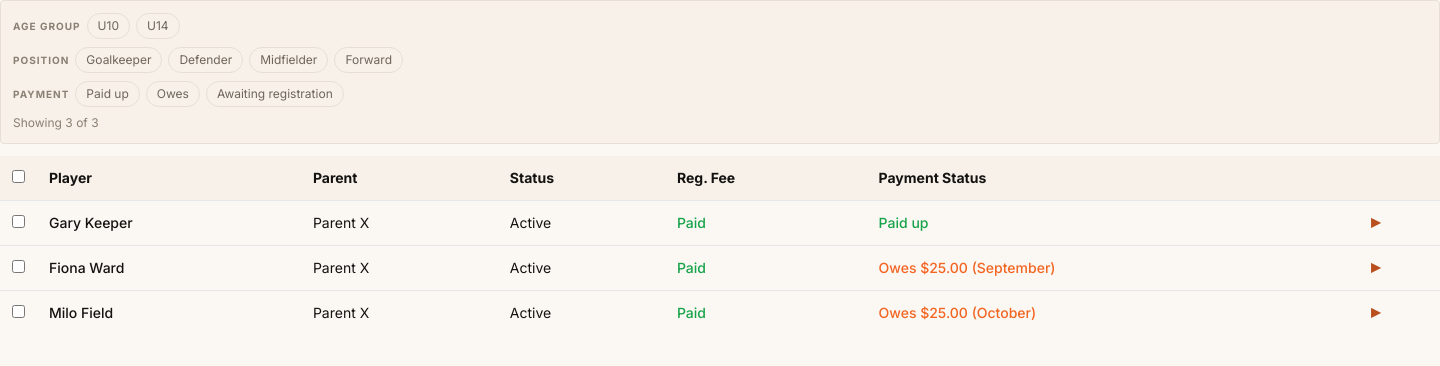
Test: PlayersTable bulk selection › select-all picks every filtered row
Click the button "U10" at (108, 26), box [87, 13, 130, 39]
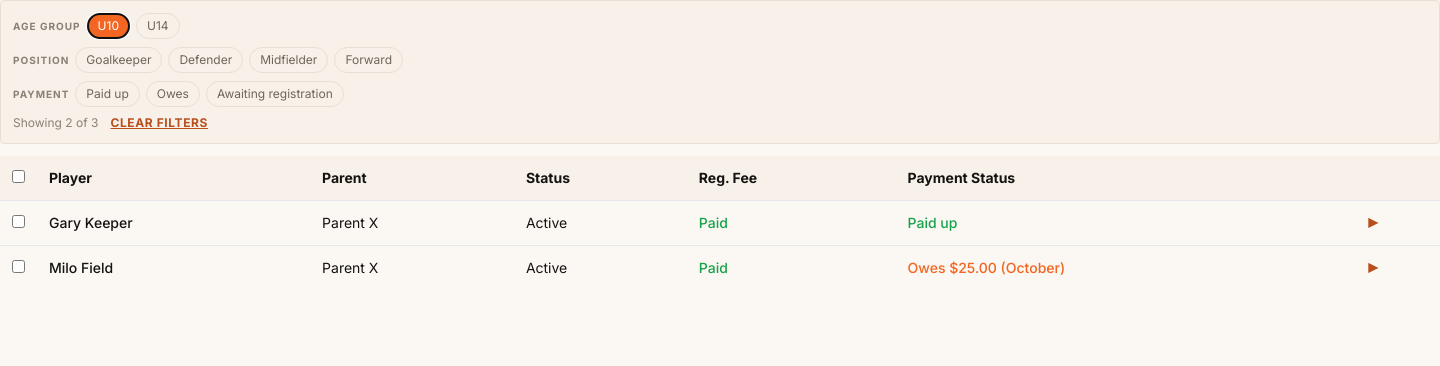
Click the checkbox named "Select all" at (18, 176), box [12, 170, 25, 183]
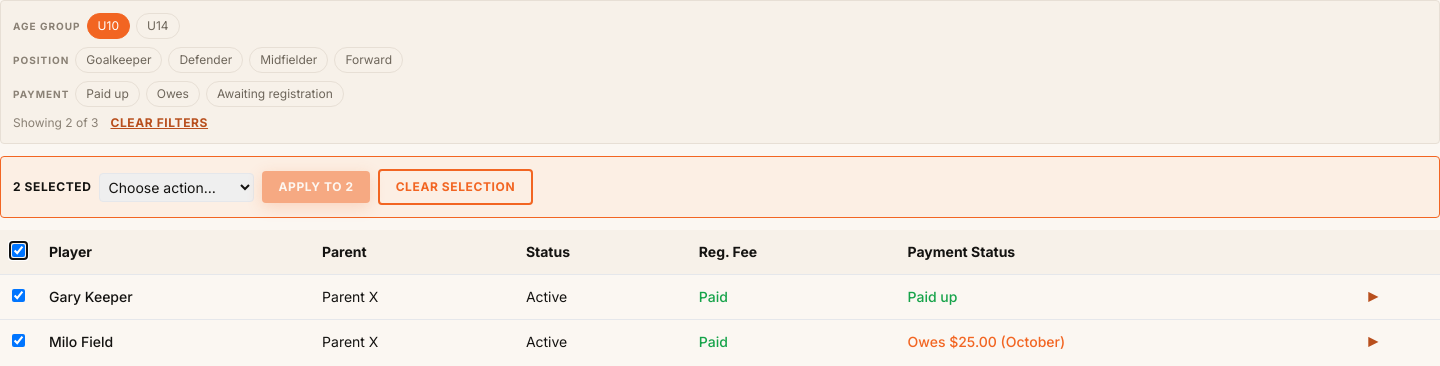
Result: the text "2 selected" is shown at [13, 179, 92, 195]
